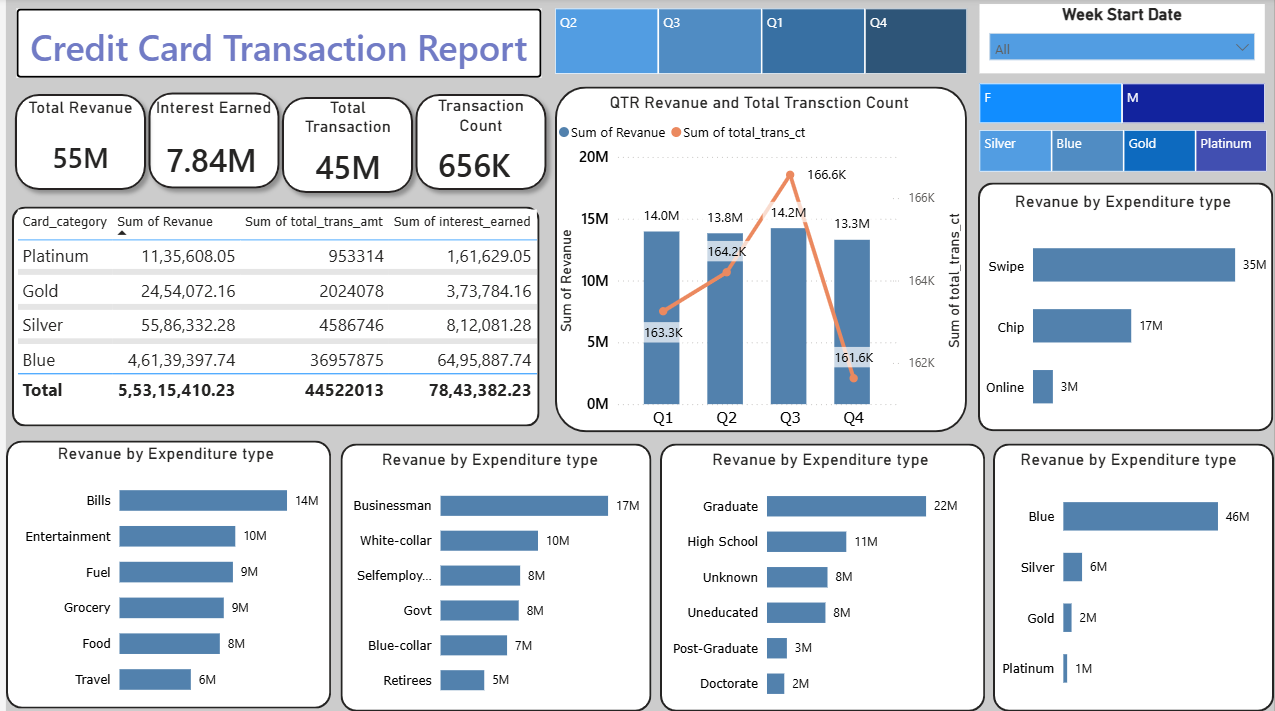

What the dashboard file says about the page in this screenshot:
{"tool":"powerbi","page":{"name":"CC Transaction","canvas":[1280,720],"ordinal":0},"visuals":[{"type":"shape","box":[5.4,210.1,532.5,222.1],"z":0},{"type":"shape","box":[982,185.7,298.1,251],"z":1000},{"type":"shape","box":[337.3,449.8,313.8,270.7],"z":2000},{"type":"shape","box":[660.3,449.8,328.2,270.7],"z":3000},{"type":"shape","box":[996.3,449.8,283.7,270.7],"z":4000},{"type":"shape","box":[0,447.2,328.2,270.7],"z":5000},{"type":"shape","box":[554.4,88.9,415.8,349.1],"z":6000},{"type":"shape","box":[134.7,86.3,150.4,115.1],"z":7000},{"type":"shape","box":[269.4,90.2,150.4,115.1],"z":8000},{"type":"shape","box":[404,87.6,150.4,115.1],"z":9000},{"type":"shape","box":[0,87.6,150.4,115.1],"z":10000},{"type":"lineStackedColumnComboChart","title":"QTR Revanue and Total Transction Count","fields":{"Category":["public cc_detail.qtr"],"Y":["Sum(public cc_detail.Revanue)"],"Y2":["Sum(public cc_detail.total_trans_ct)"]},"box":[557,95.4,406.6,341.3],"z":11000},{"type":"barChart","title":"Revanue by Expenditure type","fields":{"Y":["Sum(public cc_detail.Revanue)"],"Category":["public cc_detail.exp_type"]},"box":[8,450,308,264],"z":12000},{"type":"barChart","title":"Revanue by Expenditure type","fields":{"Category":["public cust_detail.customer_job"],"Y":["Sum(public cc_detail.Revanue)"]},"box":[338,456,302,258],"z":13000},{"type":"barChart","title":"Revanue by Expenditure type","fields":{"Category":["public cust_detail.education_level"],"Y":["Sum(public cc_detail.Revanue)"]},"box":[660,456,324,262],"z":14000},{"type":"barChart","title":"Revanue by Expenditure type","fields":{"Y":["Sum(public cc_detail.Revanue)"],"Category":["public cc_detail.card_category"]},"box":[996,456,274,258],"z":15000},{"type":"barChart","title":"Revanue by Expenditure type","fields":{"Y":["Sum(public cc_detail.Revanue)"],"Category":["public cc_detail.use_chip"]},"box":[982,196,290,242],"z":16000},{"type":"tableEx","fields":{"Values":["public cc_detail.card_category","Sum(public cc_detail.Revanue)","Sum(public cc_detail.total_trans_amt)","Sum(public cc_detail.interest_earned)"]},"box":[10,214,530,204],"z":17000},{"type":"cardVisual","title":"Total Revanue","fields":{"Data":["Sum(public cc_detail.Revanue)"]},"box":[15.7,99.4,120.3,96.8],"z":18000},{"type":"cardVisual","title":"Total Transaction","fields":{"Data":["Sum(public cc_detail.total_trans_amt)"]},"box":[286,100,118,96],"z":19000},{"type":"cardVisual","title":"Interest Earned","fields":{"Data":["Sum(public cc_detail.interest_earned)"]},"box":[149.9,99.9,119.6,103],"z":20000},{"type":"cardVisual","title":"Transaction  Count","fields":{"Data":["Sum(public cc_detail.total_trans_ct)"]},"box":[423.6,98.1,111.1,95.4],"z":21000},{"type":"treemap","fields":{"Group":["public cust_detail.gender"],"Values":["Avg(public cc_detail.client_num)"]},"box":[982,86,288,40],"z":22000},{"type":"treemap","fields":{"Group":["public cc_detail.card_category"],"Values":["Avg(public cc_detail.client_num)"]},"box":[982,134,290,42],"z":23000},{"type":"treemap","fields":{"Group":["public cc_detail.qtr"],"Values":["CountNonNull(public cc_detail.client_num)"]},"box":[554,10,416,66],"z":24000},{"type":"slicer","title":"Week Start Date","fields":{"Values":["public cc_detail.week_start_date"]},"box":[982,6,288,70],"z":25000},{"type":"cardVisual","fields":{"Data":["public cc_detail.Measure"]},"box":[10,10,530,70],"z":26000}]}

Visuals, with their boxes in screenshot pixels (x1, y1, x2, y2), scaled from the page's 1280x720 canvas onto the 1275x711 screenshot:
shape: region(5, 207, 536, 427)
shape: region(978, 183, 1274, 431)
shape: region(336, 444, 649, 710)
shape: region(658, 444, 985, 710)
shape: region(992, 444, 1274, 710)
shape: region(0, 442, 327, 709)
shape: region(552, 88, 966, 433)
shape: region(134, 85, 284, 199)
shape: region(268, 89, 418, 203)
shape: region(402, 87, 552, 200)
shape: region(0, 87, 150, 200)
"QTR Revanue and Total Transction Count" lineStackedColumnComboChart: region(555, 94, 960, 431)
"Revanue by Expenditure type" barChart: region(8, 444, 315, 705)
"Revanue by Expenditure type" barChart: region(337, 450, 638, 705)
"Revanue by Expenditure type" barChart: region(657, 450, 980, 709)
"Revanue by Expenditure type" barChart: region(992, 450, 1265, 705)
"Revanue by Expenditure type" barChart: region(978, 194, 1267, 433)
tableEx - public cc_detail.card_category x Sum(public cc_detail.Revanue): region(10, 211, 538, 413)
"Total Revanue" cardVisual: region(16, 98, 135, 194)
"Total Transaction" cardVisual: region(285, 99, 402, 194)
"Interest Earned" cardVisual: region(149, 99, 268, 200)
"Transaction  Count" cardVisual: region(422, 97, 533, 191)
treemap - public cust_detail.gender x Avg(public cc_detail.client_num): region(978, 85, 1265, 124)
treemap - public cc_detail.card_category x Avg(public cc_detail.client_num): region(978, 132, 1267, 174)
treemap - public cc_detail.qtr x CountNonNull(public cc_detail.client_num): region(552, 10, 966, 75)
"Week Start Date" slicer: region(978, 6, 1265, 75)
cardVisual - public cc_detail.Measure: region(10, 10, 538, 79)
